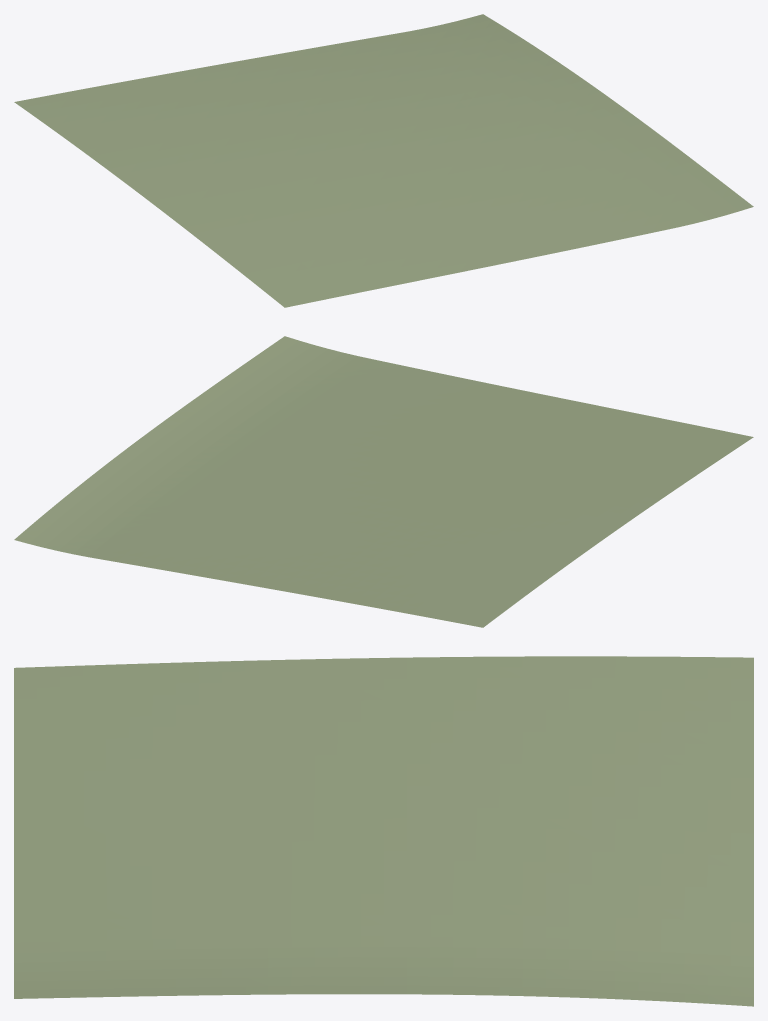
The model's file is expanse-23-17.glb.
3 views of the same model, one above another, from view 1: azimuth 30°, elevation 25°; view 2: azimuth 150°, elevation 25°; view 3: azimuth 270°, elevation 25° (orthographic). The views are drawn at different scales.
Parts seen in each view (by area): view 1: expanse-23-17; view 2: expanse-23-17; view 3: expanse-23-17.
Part boxes in pixels (x1=…): expanse-23-17: x1=14, y1=14, x2=753, y2=307; expanse-23-17: x1=14, y1=336, x2=753, y2=627; expanse-23-17: x1=14, y1=656, x2=753, y2=1006.
Bounding box in the file's own units: 256 × 14.6 × 256.
